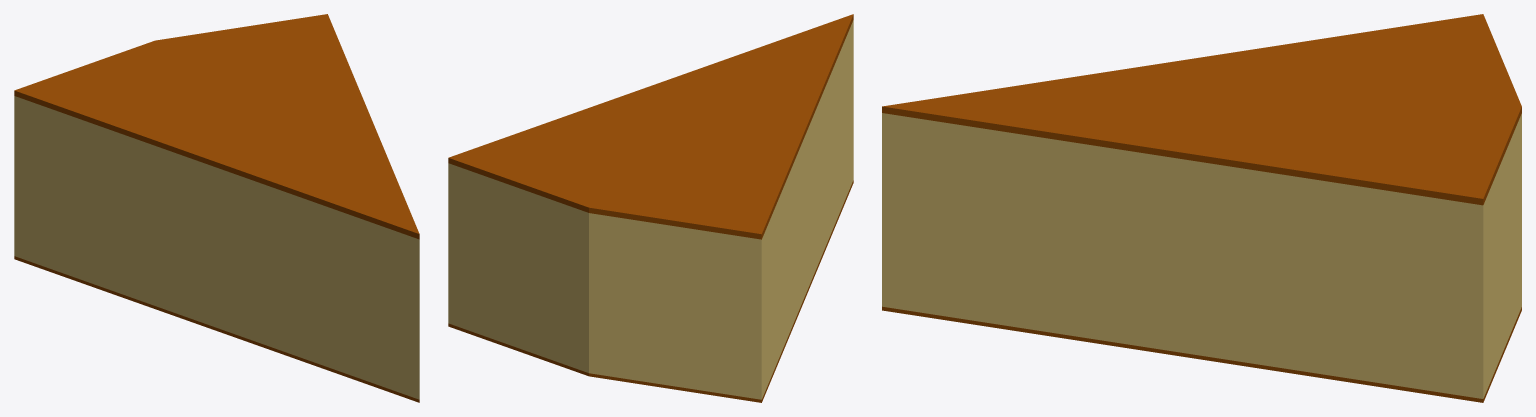
The model's file is flan.fbx.
The picture shows the model from 3 angles, left to right: view 1: azimuth 30°, elevation 25°; view 2: azimuth 150°, elevation 25°; view 3: azimuth 270°, elevation 25°; orthographic projection. The views are drawn at different scales.
Visible parts, largest first — view 1: Flan_slice; view 2: Flan_slice; view 3: Flan_slice.
Part boxes in pixels (x1,y1,x2,y2): Flan_slice: (14, 14, 419, 402); Flan_slice: (448, 14, 853, 402); Flan_slice: (882, 14, 1521, 402).
Bounding box in the file's own units: 15.08 × 7.75 × 22.04.
